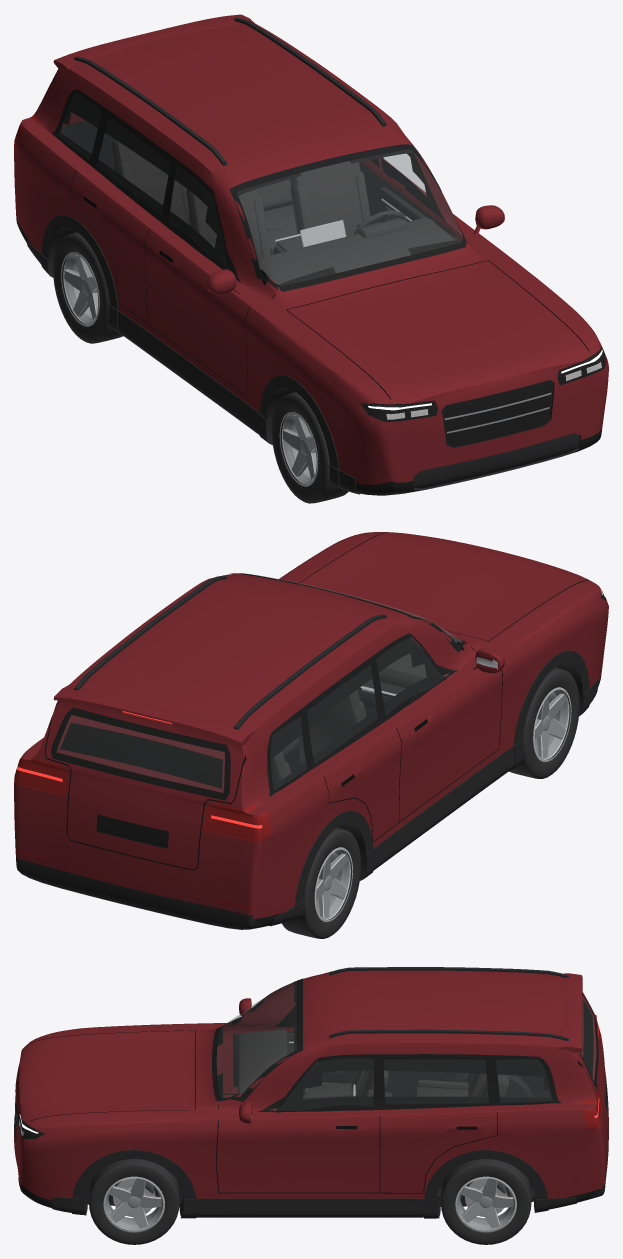
The model's file is auto-suv.glb.
The picture shows the model from 3 angles, top to bottom: view 1: azimuth 30°, elevation 25°; view 2: azimuth 150°, elevation 25°; view 3: azimuth 270°, elevation 25°; orthographic projection. The views are drawn at different scales.
Parts seen in each view (by area): view 1: body, glass_windshield, interior, glass_side_R, wheel_FR_mesh, wheel_RR_mesh, roof_rails, spoiler, mirror_L; view 2: body, glass_side_R, glass_rear, wheel_RR_mesh, wheel_FR_mesh, interior, spoiler, roof_rails, glass_windshield, mirror_R; view 3: body, glass_side_L, interior, glass_windshield, wheel_FL_mesh, wheel_RL_mesh, roof_rails, spoiler, glass_rear.
Boxes of the visible parts, x1=… form: body: x1=14, y1=23, x2=608, y2=495; glass_windshield: x1=229, y1=144, x2=466, y2=291; interior: x1=60, y1=120, x2=457, y2=284; glass_side_R: x1=52, y1=89, x2=241, y2=283; wheel_FR_mesh: x1=271, y1=392, x2=348, y2=503; wheel_RR_mesh: x1=53, y1=232, x2=123, y2=343; roof_rails: x1=74, y1=18, x2=386, y2=165; spoiler: x1=53, y1=14, x2=254, y2=70; mirror_L: x1=473, y1=205, x2=504, y2=236; body: x1=14, y1=532, x2=608, y2=929; glass_side_R: x1=267, y1=633, x2=458, y2=796; glass_rear: x1=51, y1=707, x2=230, y2=800; wheel_RR_mesh: x1=282, y1=827, x2=360, y2=938; wheel_FR_mesh: x1=509, y1=667, x2=579, y2=778; interior: x1=272, y1=653, x2=426, y2=786; spoiler: x1=53, y1=685, x2=256, y2=745; roof_rails: x1=74, y1=575, x2=386, y2=729; glass_windshield: x1=230, y1=573, x2=466, y2=652; mirror_R: x1=473, y1=648, x2=504, y2=673; body: x1=14, y1=970, x2=608, y2=1218; glass_side_L: x1=256, y1=1054, x2=560, y2=1111; interior: x1=233, y1=1029, x2=551, y2=1196; glass_windshield: x1=212, y1=978, x2=302, y2=1101; wheel_FL_mesh: x1=89, y1=1159, x2=179, y2=1244; wheel_RL_mesh: x1=440, y1=1159, x2=531, y2=1244; roof_rails: x1=329, y1=967, x2=568, y2=1040; spoiler: x1=556, y1=973, x2=582, y2=1052; glass_rear: x1=580, y1=994, x2=598, y2=1087.
Size of the model in its own units: 2.14 by 1.7 by 4.65.
